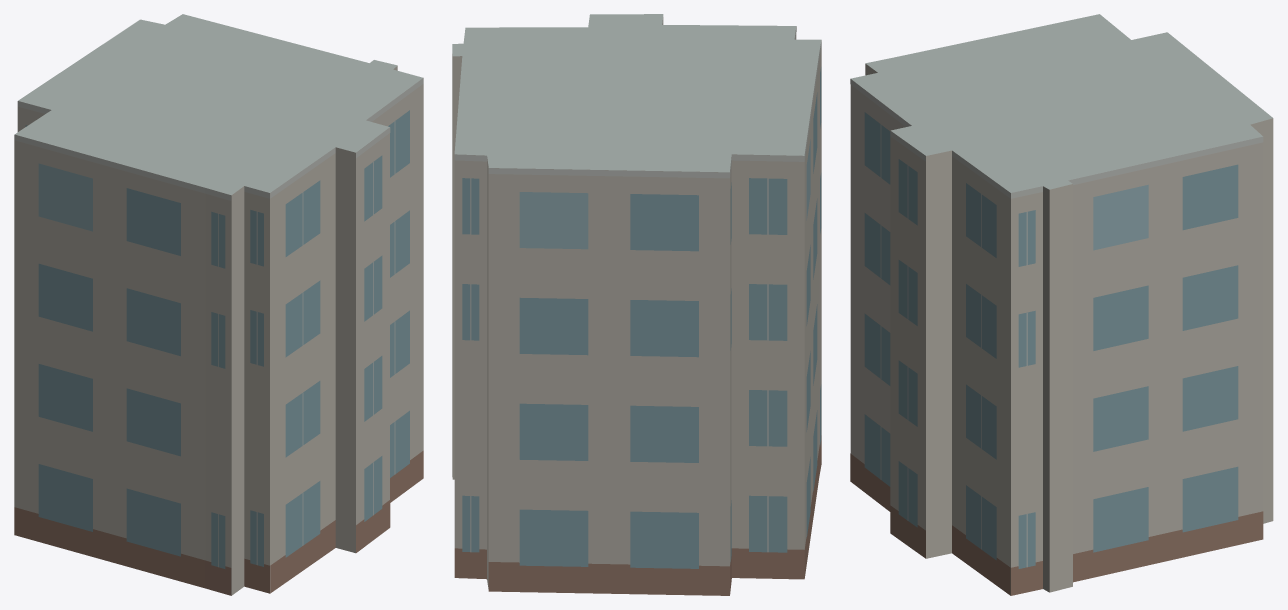
The model's file is survey-upis-32899745.glb.
3 views of the same model, side by side, from view 1: azimuth 30°, elevation 25°; view 2: azimuth 150°, elevation 25°; view 3: azimuth 270°, elevation 25° (orthographic). The views are drawn at different scales.
Visible parts, largest first — view 1: survey-upis-32899745.tmp; view 2: survey-upis-32899745.tmp; view 3: survey-upis-32899745.tmp.
Boxes of the visible parts, box(x1,y1,x2,y2) form: survey-upis-32899745.tmp: box(14, 14, 423, 595); survey-upis-32899745.tmp: box(452, 14, 821, 595); survey-upis-32899745.tmp: box(850, 14, 1273, 595).
Bounding box in the file's own units: 16.16 × 16.94 × 16.13.
